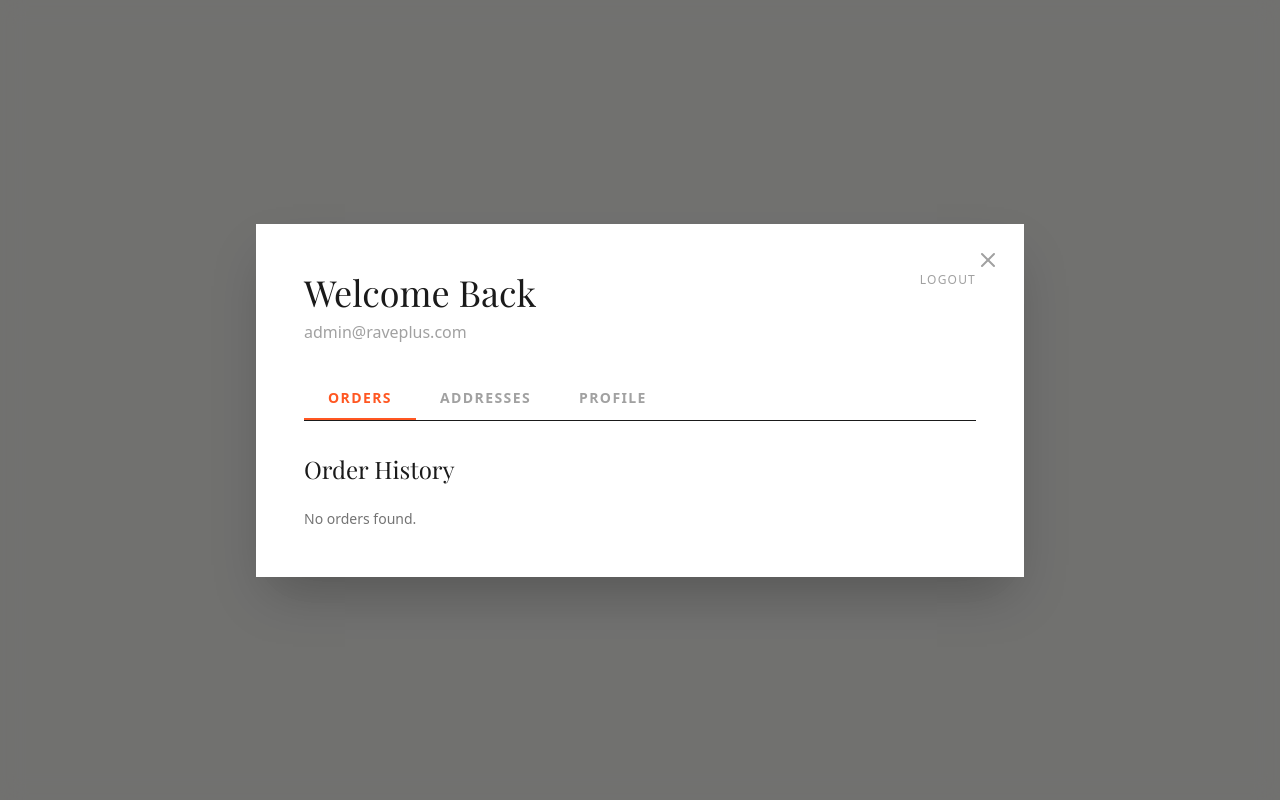
Test: Account & Address Modals › renders profile tab correctly
This screenshot has width=1280, height=800.
Click the button "profile": (613, 398) [555,376,671,420]
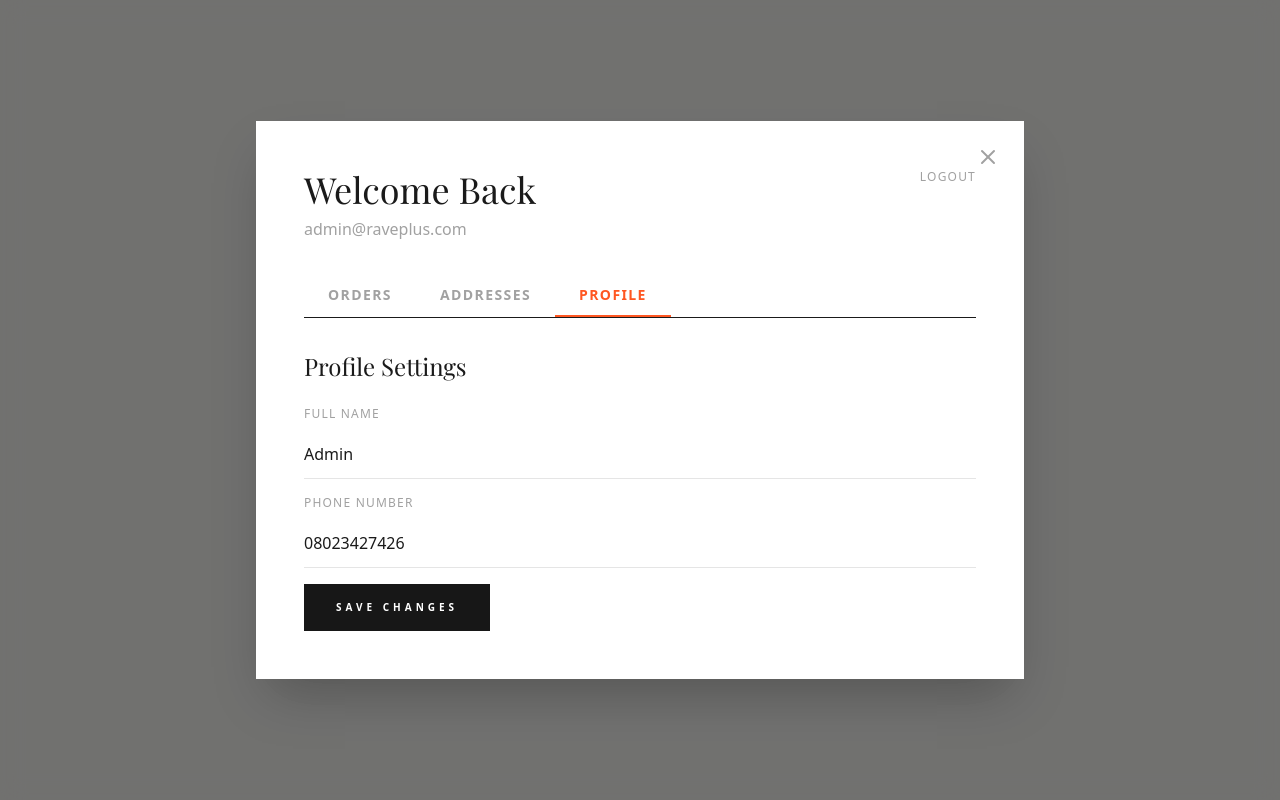
Check: the field showing "Admin" below "Full Name" is shown, box [304,430,976,479]
